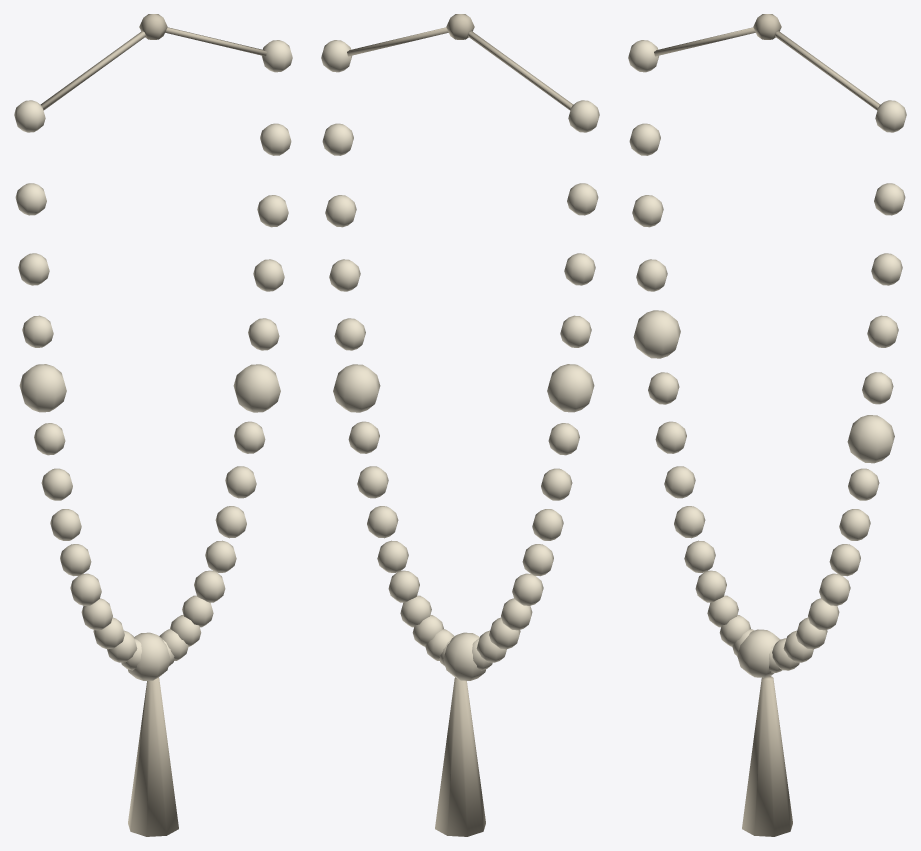
The model's file is paternoster_p1_w1.glb.
The picture shows the model from 3 angles, left to right: view 1: azimuth 30°, elevation 25°; view 2: azimuth 150°, elevation 25°; view 3: azimuth 330°, elevation 25°; orthographic projection.
Visible parts, largest first — view 1: paternoster_p1_w1; view 2: paternoster_p1_w1; view 3: paternoster_p1_w1.
Boxes of the visible parts, <box> form: paternoster_p1_w1: <box>14,14,292,836</box>; paternoster_p1_w1: <box>321,14,599,836</box>; paternoster_p1_w1: <box>628,14,906,836</box>.
Size of the model in its own units: 0.0779 by 0.2195 by 0.013.
